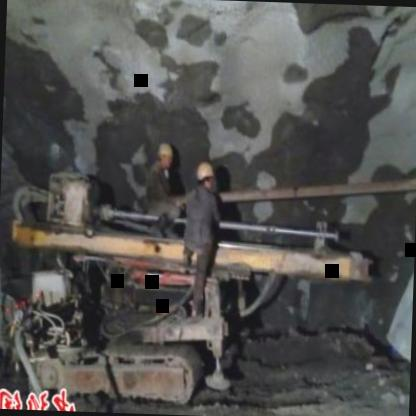helmet: (192, 162, 216, 192), (153, 138, 174, 171)
